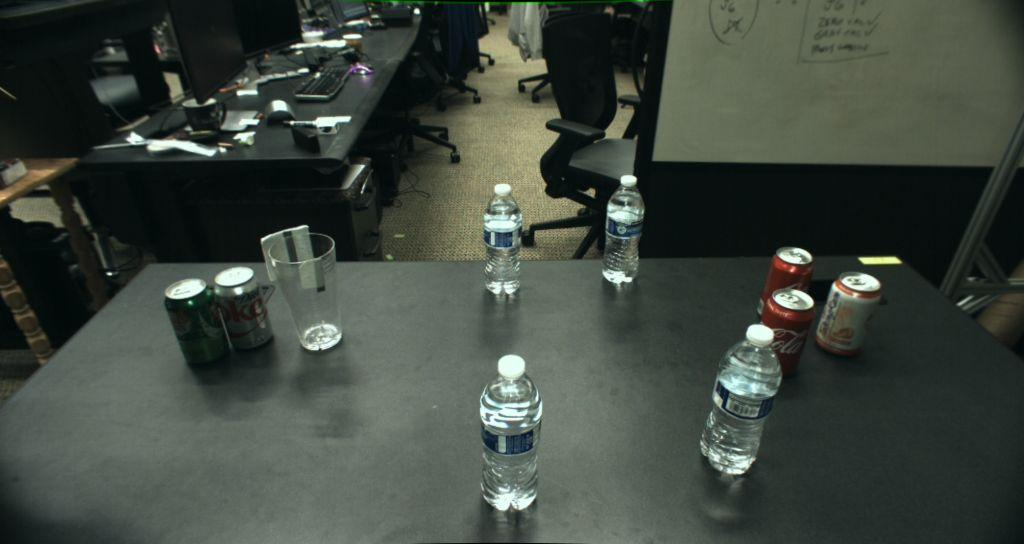can_coke: (757, 288, 814, 377), (757, 247, 812, 325)
can_diet_coke: (213, 267, 274, 350)
can_ginger_ale: (163, 278, 229, 364)
can_talking_rain_peach_nectarine: (817, 271, 879, 355)
water_bottle: (700, 324, 782, 475), (479, 354, 543, 510), (602, 175, 644, 284), (482, 183, 522, 295)
